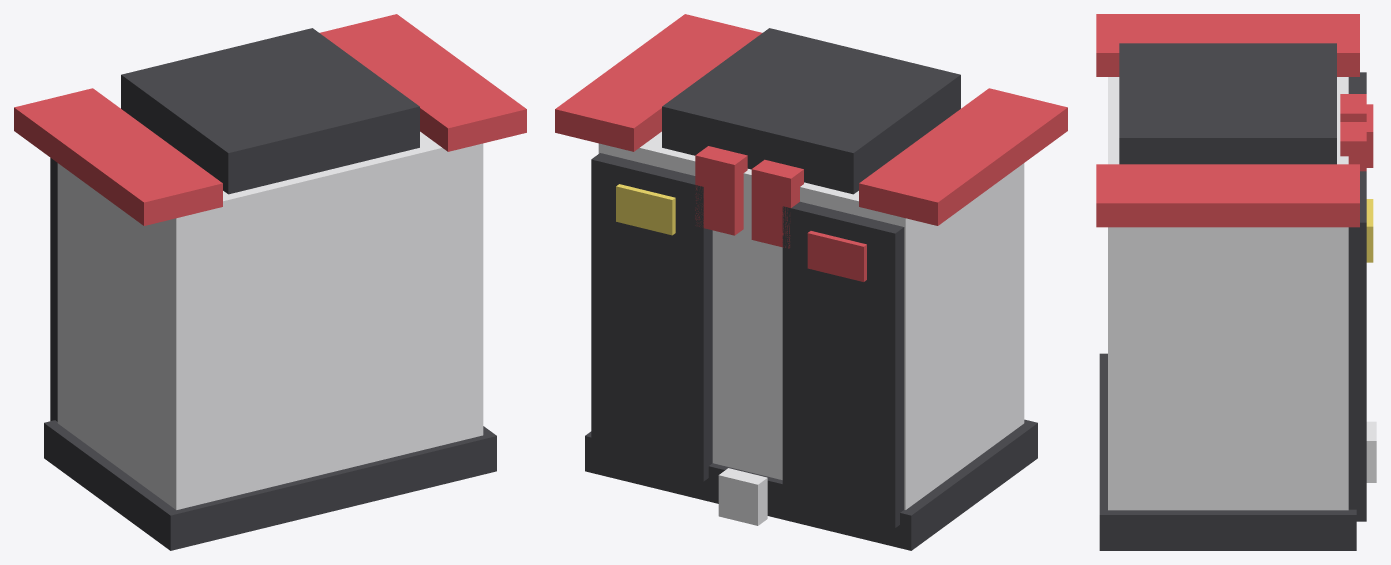
Rendered from piloto_tronco.glb.
3 views of the same model, side by side, from view 1: azimuth 30°, elevation 25°; view 2: azimuth 150°, elevation 25°; view 3: azimuth 270°, elevation 25° (orthographic).
Visible parts, largest first — view 1: piloto_tronco; view 2: piloto_tronco; view 3: piloto_tronco.
Part boxes in pixels (x1,y1,x2,y2): piloto_tronco: [14, 14, 526, 550]; piloto_tronco: [555, 14, 1067, 550]; piloto_tronco: [1096, 14, 1376, 550].
Bounding box in the file's own units: 0.68 × 0.64 × 0.425.
